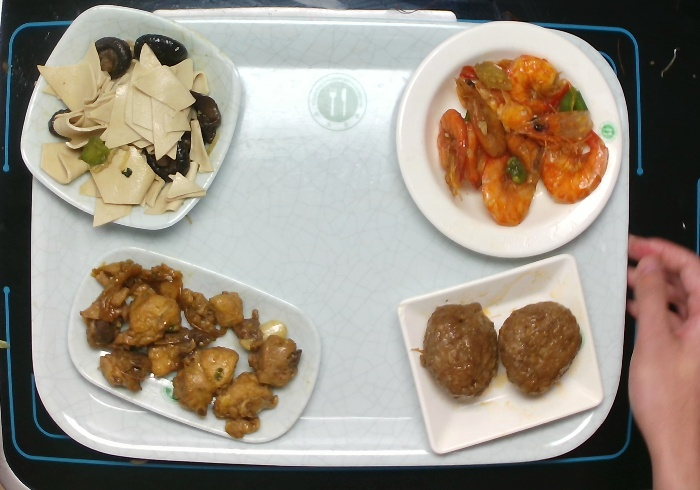WCQzf-Bai_Se_Si_Fang_Die: (394, 252, 604, 459)
WCQzf-Da_Si_Fang_Die: (19, 5, 249, 241)
WCQzf-Kuan_Bian_Yuan_Die: (389, 18, 630, 266)
WCQzf-Tuo_Yuan_Pan: (69, 240, 326, 452)
